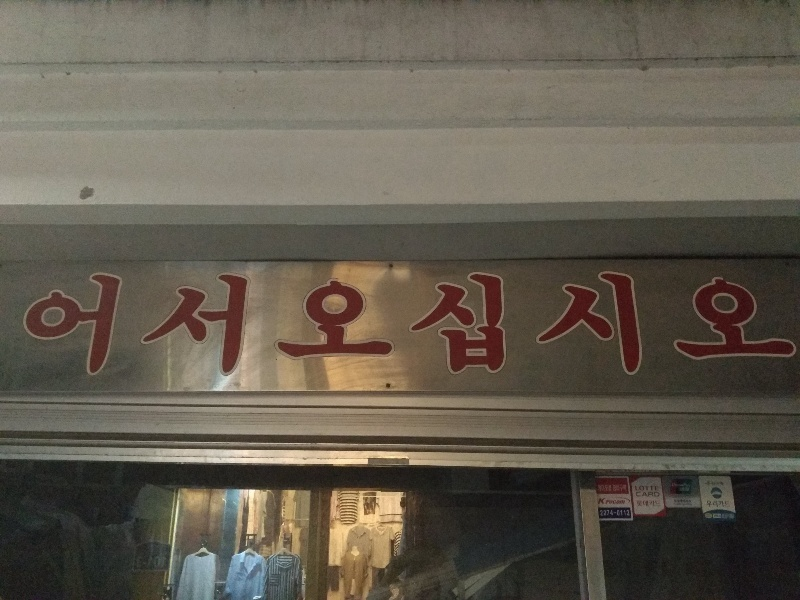text: (33, 270, 48, 381), (49, 270, 64, 381), (65, 270, 80, 381), (81, 270, 96, 381), (97, 270, 112, 381), (113, 270, 128, 381), (129, 270, 144, 381), (145, 270, 160, 381), (161, 270, 176, 381), (177, 270, 192, 381), (193, 270, 208, 381), (209, 270, 224, 381), (225, 270, 240, 381), (241, 270, 256, 381), (257, 270, 272, 381), (273, 270, 288, 381), (289, 270, 304, 381), (305, 270, 320, 381), (321, 270, 336, 381), (337, 270, 352, 381), (353, 270, 368, 381), (369, 270, 384, 381), (385, 270, 400, 381), (401, 270, 416, 381), (417, 270, 432, 381), (433, 270, 448, 381), (449, 270, 464, 381), (465, 270, 480, 381), (481, 270, 496, 381), (497, 270, 512, 381), (513, 270, 528, 381), (529, 270, 544, 381), (545, 270, 560, 381), (561, 270, 576, 381), (577, 270, 592, 381), (593, 270, 608, 381), (609, 270, 624, 381), (625, 270, 640, 381), (641, 270, 656, 381), (657, 270, 672, 381), (673, 270, 688, 381), (689, 270, 704, 381), (705, 270, 720, 381), (721, 270, 736, 381), (737, 270, 752, 381), (753, 270, 768, 381), (769, 270, 784, 381), (785, 270, 799, 381), (26, 270, 32, 381), (706, 500, 720, 508), (641, 500, 656, 507), (612, 484, 624, 492), (641, 486, 656, 492), (609, 499, 624, 505), (609, 510, 624, 516), (673, 482, 688, 488), (721, 500, 731, 508), (641, 492, 656, 497), (705, 481, 720, 486), (598, 485, 608, 492), (722, 514, 736, 519), (600, 498, 608, 505), (674, 499, 688, 503), (600, 510, 608, 516), (679, 487, 688, 492), (625, 510, 631, 516), (635, 486, 640, 492), (657, 500, 661, 507), (609, 485, 613, 492), (713, 514, 720, 518), (637, 500, 640, 507), (636, 492, 640, 497), (721, 481, 725, 486), (657, 486, 660, 492), (689, 482, 692, 488), (625, 484, 627, 492), (657, 492, 660, 497), (689, 499, 692, 503), (689, 487, 691, 492), (607, 499, 608, 505), (625, 499, 626, 505), (721, 514, 722, 518)
